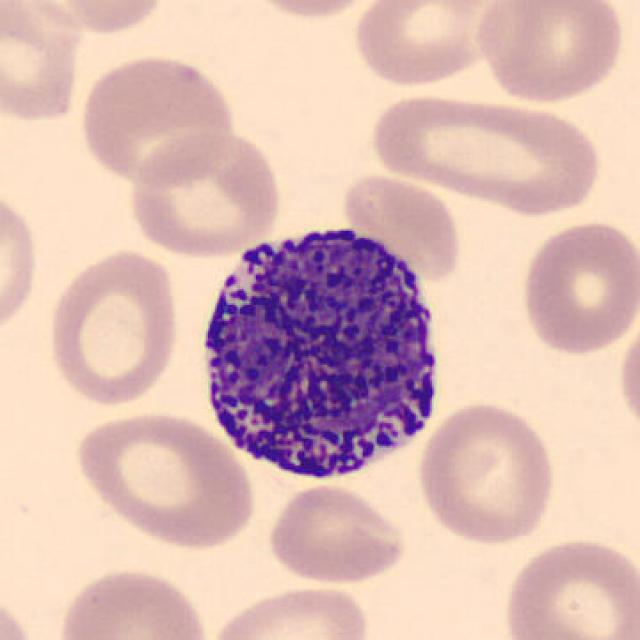Basophil: (187, 206, 455, 494)
RBC: (364, 88, 608, 217), (70, 407, 260, 552), (43, 245, 183, 409), (75, 49, 238, 189), (414, 397, 560, 548), (124, 127, 284, 259), (516, 215, 636, 358), (471, 0, 629, 108), (263, 480, 411, 587), (498, 532, 638, 640), (338, 169, 466, 284), (348, 0, 506, 90), (52, 562, 215, 640), (0, 0, 91, 129), (205, 580, 375, 640), (0, 184, 43, 346), (41, 0, 172, 39), (613, 307, 640, 444), (233, 0, 393, 23), (0, 583, 44, 640)
